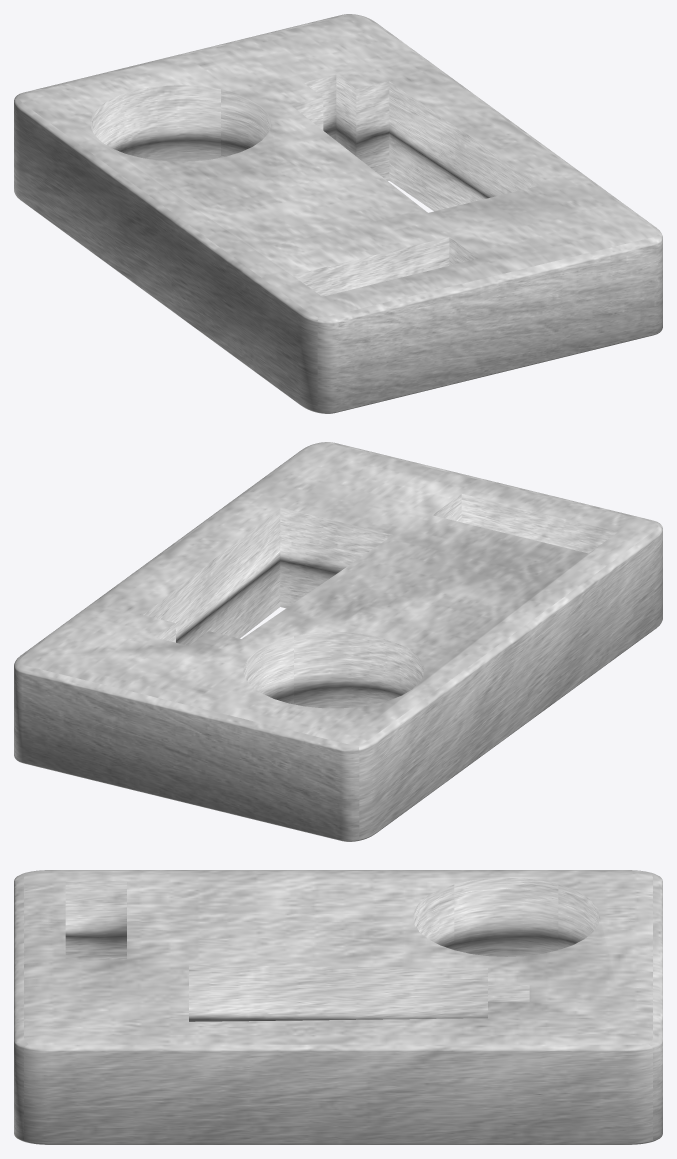
The picture shows the model from 3 angles, top to bottom: view 1: azimuth 30°, elevation 25°; view 2: azimuth 150°, elevation 25°; view 3: azimuth 270°, elevation 25°; orthographic projection. The views are drawn at different scales.
Visible parts, largest first — view 1: Cube; view 2: Cube; view 3: Cube.
Boxes of the visible parts, box(x1,y1,x2,y2) form: Cube: box(14, 14, 662, 413); Cube: box(14, 442, 662, 841); Cube: box(14, 870, 662, 1144).
Bounding box in the file's own units: 4.54 × 1.21 × 6.93.
1 material, 1 textured.
